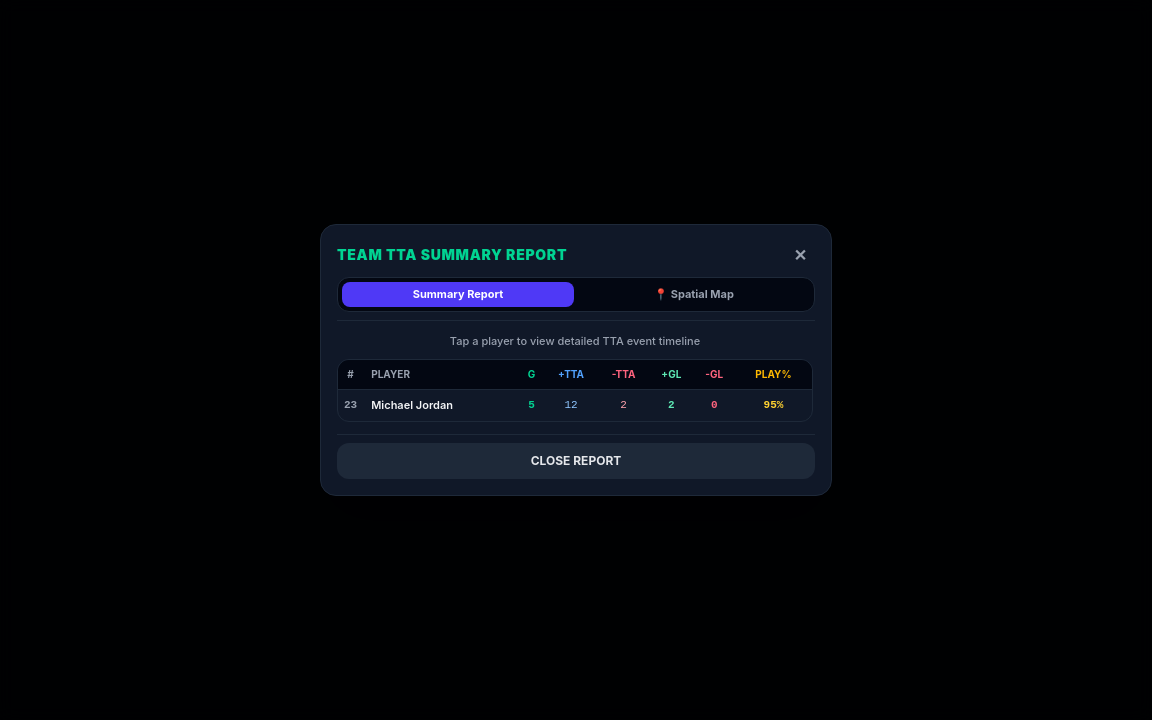
Scenario: MatchReportModal › handles error gracefully when fetching player detailed report fails
What coordinates should you click on to do the following:
click the button "Michael Jordan"
I would click on:
 (412, 406)
Its box is [371, 398, 453, 413].
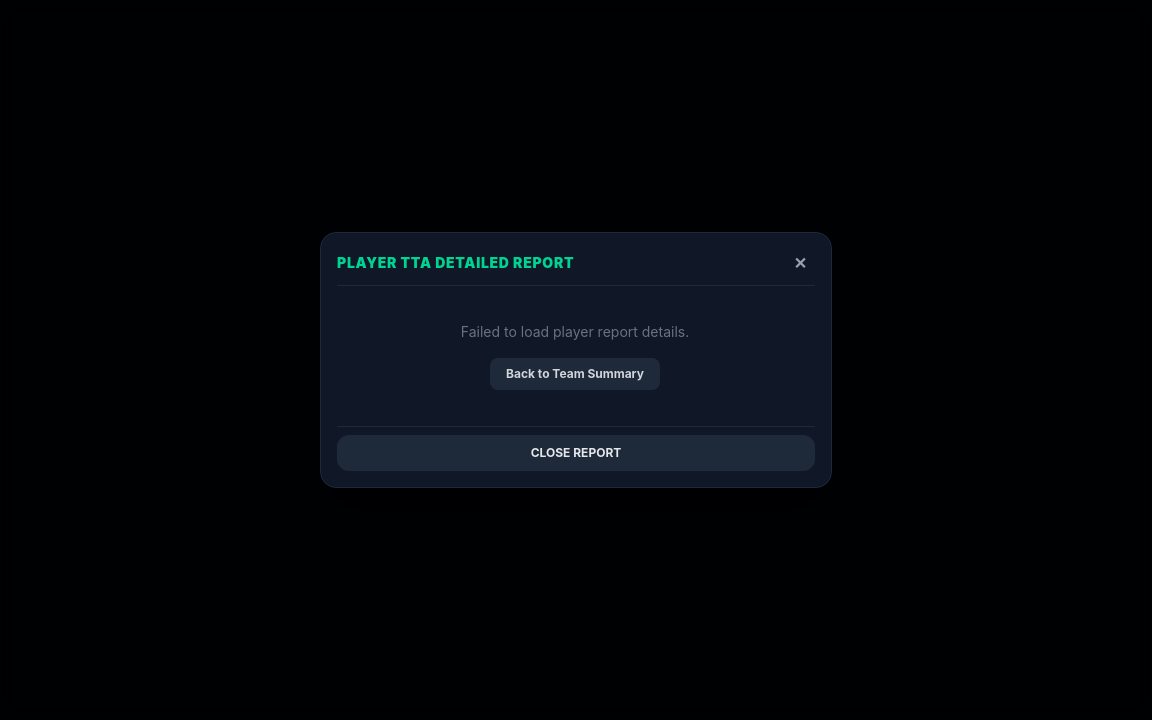
Expected: the text "Failed to load player report details." is shown, [461, 323, 689, 340]
